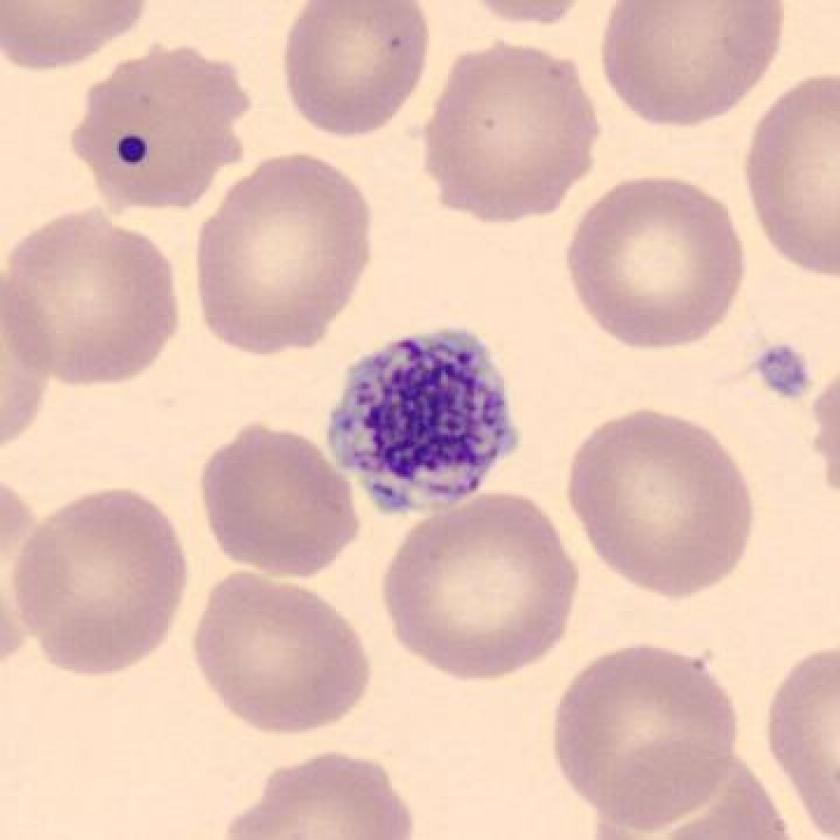platelets: (323, 316, 531, 524), (743, 337, 820, 408)
